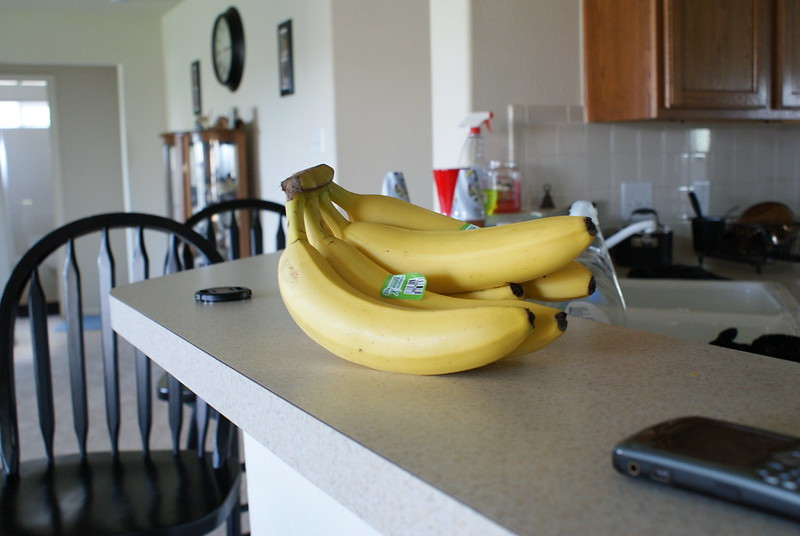banana: (274, 160, 607, 384)
